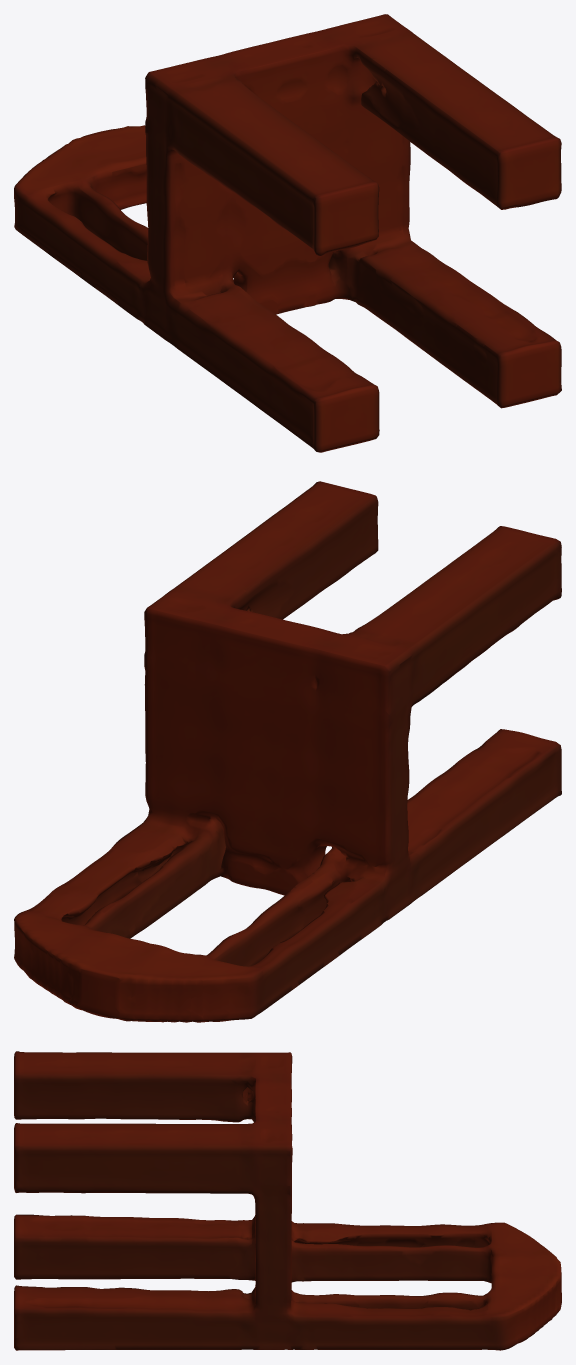
3 views of the same model, one above another, from view 1: azimuth 30°, elevation 25°; view 2: azimuth 150°, elevation 25°; view 3: azimuth 270°, elevation 25° (orthographic). The views are drawn at different scales.
Parts seen in each view (by area): view 1: plyFile; view 2: plyFile; view 3: plyFile.
Boxes of the visible parts, bbox=[...] form: plyFile: bbox=[14, 14, 561, 452]; plyFile: bbox=[14, 481, 561, 1022]; plyFile: bbox=[14, 1051, 561, 1350].
Size of the model in its own units: 82.8 by 82.76 by 198.
